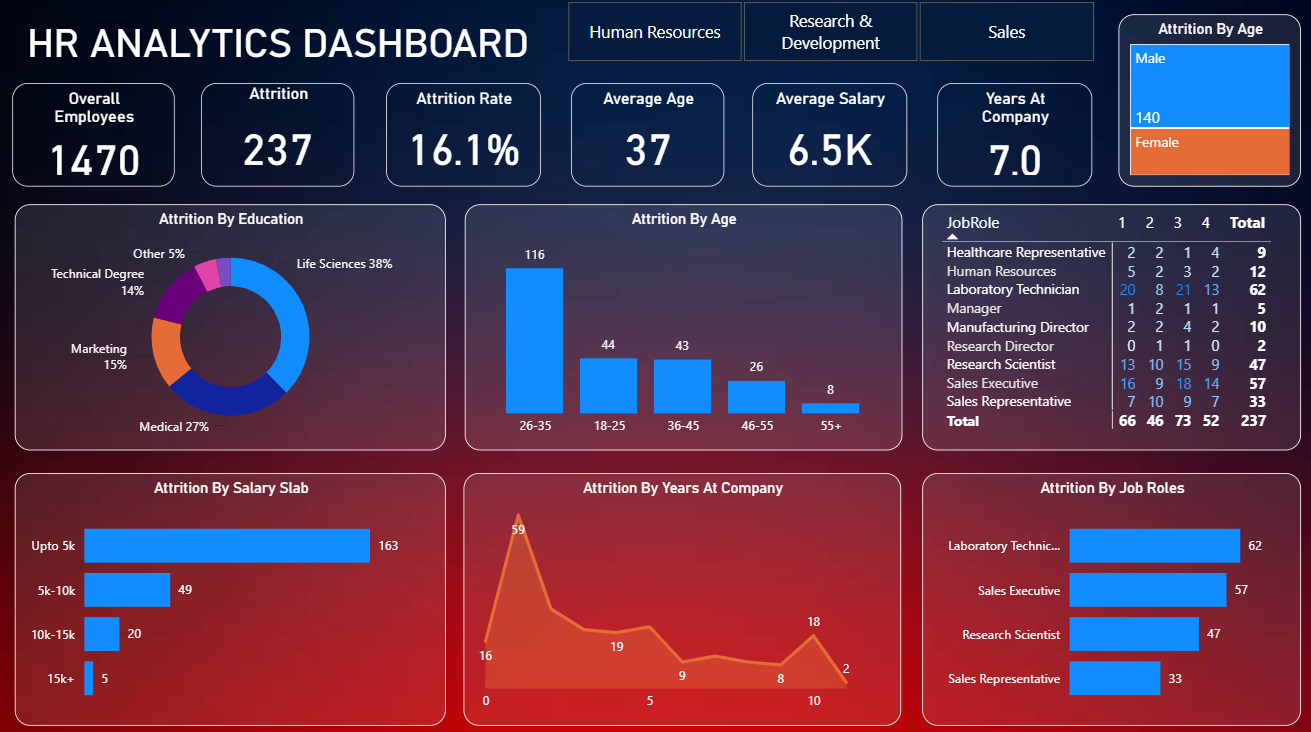

The page's visual inventory and layout, read from the dashboard file:
{"tool":"powerbi","page":{"name":"Page 1","canvas":[1280,720],"ordinal":0},"visuals":[{"type":"card","title":"Overall Employees","fields":{"Values":["CountNonNull(HR_Analytics.EmpID)"]},"box":[15.7,86.9,156.8,100.1],"z":0},{"type":"card","title":"Attrition","fields":{"Values":["Sum(HR_Analytics.AttritionCounttssss)"]},"box":[197.9,86.9,148.4,100.1],"z":1000},{"type":"card","title":"Attrition Rate","fields":{"Values":["HR_Analytics.Measure"]},"box":[376.4,86.9,149.6,100.1],"z":2000},{"type":"card","title":"Average Age","fields":{"Values":["Avg(HR_Analytics.Age)"]},"box":[555,86.9,148.4,100.1],"z":3000},{"type":"card","title":"Average Salary","fields":{"Values":["Avg(HR_Analytics.MonthlyIncome)"]},"box":[729.9,86.9,149.6,100.1],"z":4000},{"type":"card","title":"Years At Company","fields":{"Values":["Avg(HR_Analytics.YearsAtCompany)"]},"box":[908.4,86.9,149.6,100.1],"z":5000},{"type":"donutChart","title":"Attrition By Education","fields":{"Category":["HR_Analytics.EducationField"],"Y":["Sum(HR_Analytics.AttritionCounttssss)"]},"box":[18.1,203.9,416.2,237.7],"z":6000},{"type":"columnChart","title":"Attrition By Age","fields":{"Category":["HR_Analytics.AgeGroup"],"Y":["Sum(HR_Analytics.AttritionCounttssss)"]},"box":[452.4,203.9,422,237.7],"z":7000},{"type":"pivotTable","fields":{"Rows":["HR_Analytics.JobRole"],"Columns":["HR_Analytics.JobSatisfaction"],"Values":["Sum(HR_Analytics.AttritionCounttssss)"]},"box":[894,203.9,365.6,237.7],"z":8000},{"type":"barChart","title":"Attrition By Salary Slab","fields":{"Category":["HR_Analytics.SalarySlab"],"Y":["Sum(HR_Analytics.AttritionCounttssss)"]},"box":[18.1,463.3,416.2,243.7],"z":9000},{"type":"barChart","title":"Attrition By Job Roles","fields":{"Category":["HR_Analytics.JobRole"],"Y":["Sum(HR_Analytics.AttritionCounttssss)"]},"box":[894,463.3,365.6,243.7],"z":10000},{"type":"areaChart","title":"Attrition By Years At Company","fields":{"Category":["HR_Analytics.YearsAtCompany"],"Y":["Sum(HR_Analytics.AttritionCounttssss)"]},"box":[451.2,463.3,422,243.7],"z":11000},{"type":"treemap","title":"Attrition By Age","fields":{"Values":["Sum(HR_Analytics.AttritionCounttssss)"],"Group":["HR_Analytics.Gender"]},"box":[1083.4,20.5,176.1,166.5],"z":12000},{"type":"slicer","fields":{"Values":["HR_Analytics.Department"]},"box":[526,0,557.4,72.4],"z":13000},{"type":"textbox","box":[18.1,20.5,507.9,68.8],"z":14000}]}

Visuals, with their boxes in screenshot pixels (x1, y1, x2, y2), scaled from the page's 1280x720 canvas onto the 1311x732 screenshot:
"Overall Employees" card: {"x1": 16, "y1": 88, "x2": 177, "y2": 190}
"Attrition" card: {"x1": 203, "y1": 88, "x2": 355, "y2": 190}
"Attrition Rate" card: {"x1": 386, "y1": 88, "x2": 539, "y2": 190}
"Average Age" card: {"x1": 568, "y1": 88, "x2": 720, "y2": 190}
"Average Salary" card: {"x1": 748, "y1": 88, "x2": 901, "y2": 190}
"Years At Company" card: {"x1": 930, "y1": 88, "x2": 1084, "y2": 190}
"Attrition By Education" donutChart: {"x1": 19, "y1": 207, "x2": 445, "y2": 449}
"Attrition By Age" columnChart: {"x1": 463, "y1": 207, "x2": 896, "y2": 449}
pivotTable - HR_Analytics.JobRole x HR_Analytics.JobSatisfaction: {"x1": 916, "y1": 207, "x2": 1290, "y2": 449}
"Attrition By Salary Slab" barChart: {"x1": 19, "y1": 471, "x2": 445, "y2": 719}
"Attrition By Job Roles" barChart: {"x1": 916, "y1": 471, "x2": 1290, "y2": 719}
"Attrition By Years At Company" areaChart: {"x1": 462, "y1": 471, "x2": 894, "y2": 719}
"Attrition By Age" treemap: {"x1": 1110, "y1": 21, "x2": 1290, "y2": 190}
slicer - HR_Analytics.Department: {"x1": 539, "y1": 0, "x2": 1110, "y2": 74}
textbox: {"x1": 19, "y1": 21, "x2": 539, "y2": 91}
